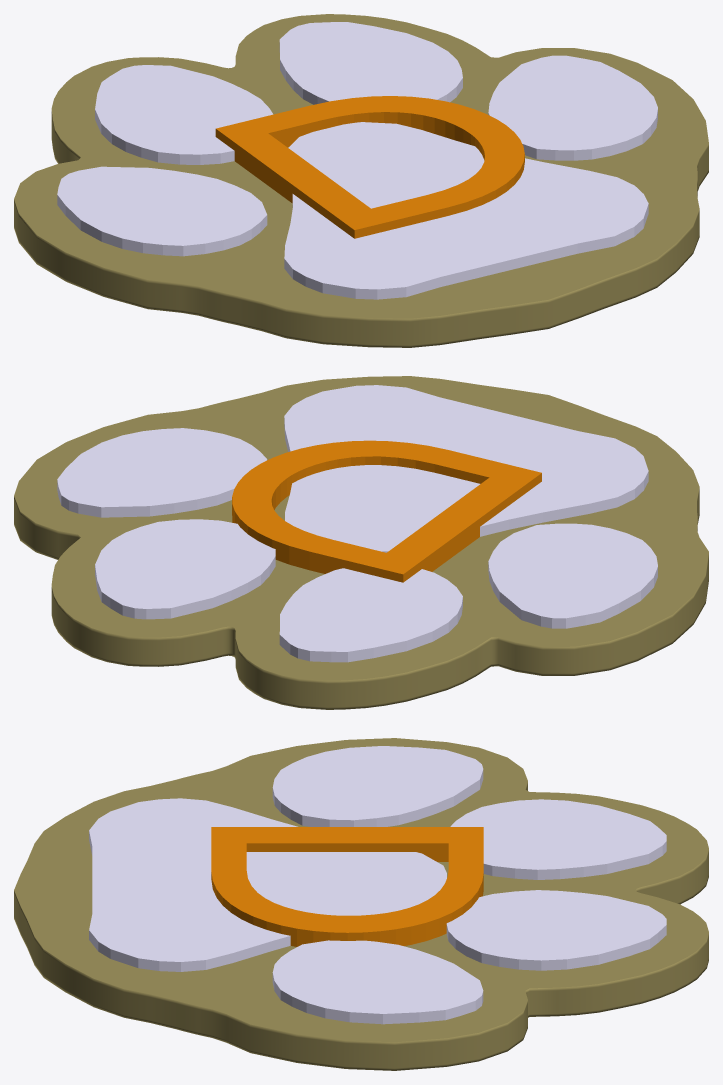
Rendered from Danger_Paw.fbx.
3 views of the same model, one above another, from view 1: azimuth 30°, elevation 25°; view 2: azimuth 150°, elevation 25°; view 3: azimuth 270°, elevation 25° (orthographic).
Visible parts, largest first — view 1: Base_Paw.007; view 2: Base_Paw.007; view 3: Base_Paw.007.
Part boxes in pixels (box(x1,y1,x2,y2)): Base_Paw.007: box(14, 14, 708, 347); Base_Paw.007: box(14, 376, 708, 709); Base_Paw.007: box(14, 738, 708, 1070).
Bounding box in the file's own units: 180 × 13 × 174.
